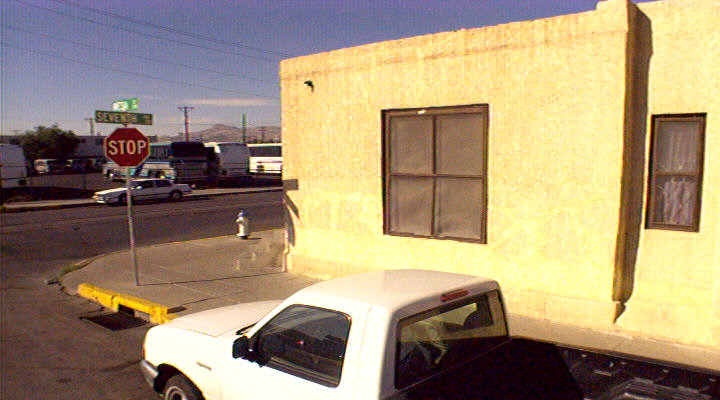Ramp: (45, 238, 204, 299)
